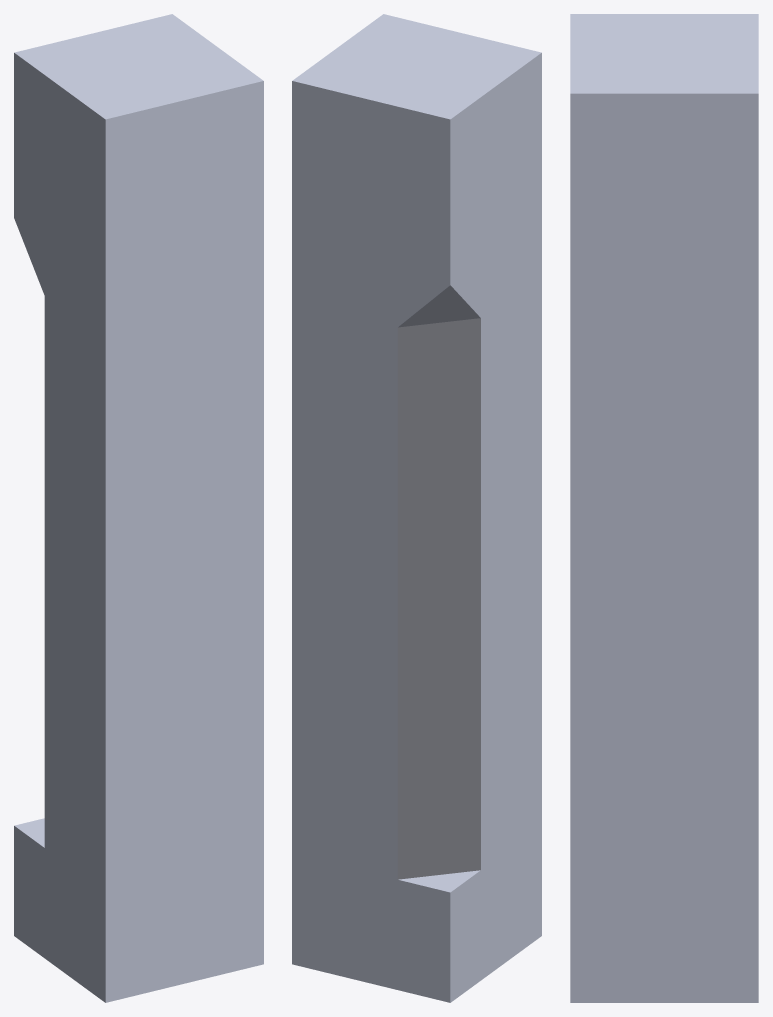
The picture shows the model from 3 angles, left to right: view 1: azimuth 30°, elevation 25°; view 2: azimuth 150°, elevation 25°; view 3: azimuth 270°, elevation 25°; orthographic projection. The views are drawn at different scales.
Visible parts, largest first — view 1: object_024; view 2: object_024; view 3: object_024.
Boxes of the visible parts, x1,y1,x2,y2 form: object_024: [14, 14, 263, 1002]; object_024: [292, 14, 541, 1002]; object_024: [570, 14, 758, 1002].
Bounding box in the file's own units: 1.88 × 10 × 1.88.
